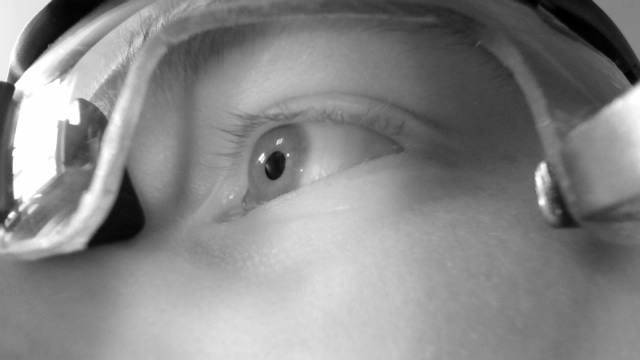pupil: (263, 150, 286, 181)
